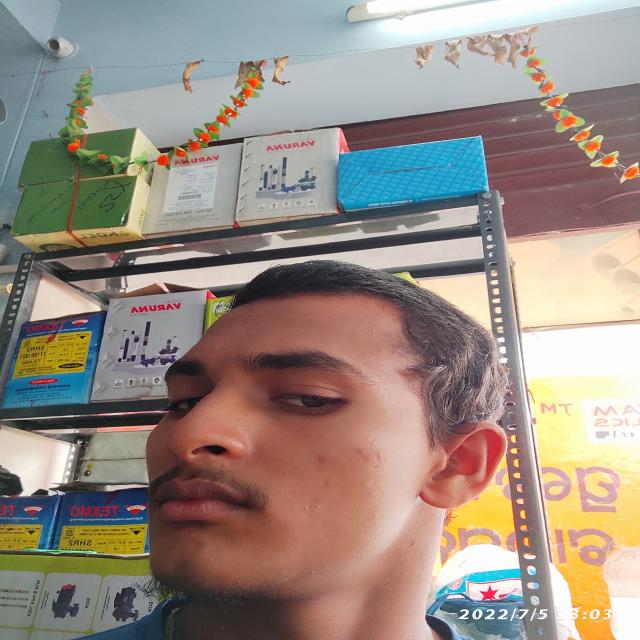Acne: (302, 496, 322, 513), (193, 538, 209, 550), (353, 446, 366, 460), (316, 452, 328, 464), (371, 326, 383, 337), (408, 538, 418, 549), (238, 318, 249, 326), (322, 478, 331, 487), (389, 348, 399, 356), (377, 484, 385, 493), (233, 579, 243, 586), (307, 568, 317, 574), (237, 416, 244, 424), (349, 551, 357, 558), (370, 517, 380, 521)
Englarged-Pores: (369, 441, 383, 471)
